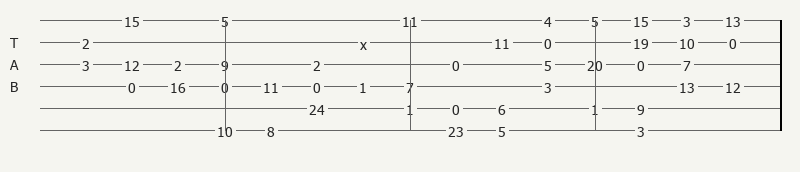0: (128, 79, 140, 93), (221, 79, 233, 93), (313, 79, 325, 93), (452, 101, 464, 115), (452, 57, 464, 71), (544, 35, 556, 49), (637, 57, 649, 71), (729, 35, 741, 49)
1: (359, 79, 371, 93), (406, 101, 418, 115), (591, 101, 603, 115)
10: (217, 123, 237, 137), (679, 35, 699, 49)
11: (263, 79, 283, 93), (402, 13, 422, 27), (494, 35, 514, 49)
12: (124, 57, 144, 71), (725, 79, 745, 93)
13: (679, 79, 699, 93), (725, 13, 745, 27)
15: (124, 13, 144, 27), (633, 13, 653, 27)
16: (170, 79, 190, 93)
19: (633, 35, 653, 49)
2: (82, 35, 94, 49), (174, 57, 186, 71), (313, 57, 325, 71)
20: (587, 57, 607, 71)
23: (448, 123, 468, 137)
24: (309, 101, 329, 115)
3: (82, 57, 94, 71), (544, 79, 556, 93), (637, 123, 649, 137), (683, 13, 695, 27)
4: (544, 13, 556, 27)
5: (221, 13, 233, 27), (498, 123, 510, 137), (544, 57, 556, 71), (591, 13, 603, 27)
6: (498, 101, 510, 115)
7: (406, 79, 418, 93), (683, 57, 695, 71)
8: (267, 123, 279, 137)
9: (221, 57, 233, 71), (637, 101, 649, 115)
x: (360, 36, 371, 48)
